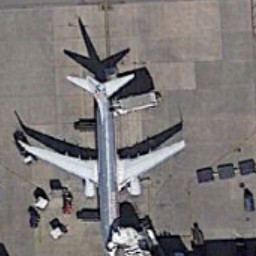Airplane: (9, 67, 192, 256)
